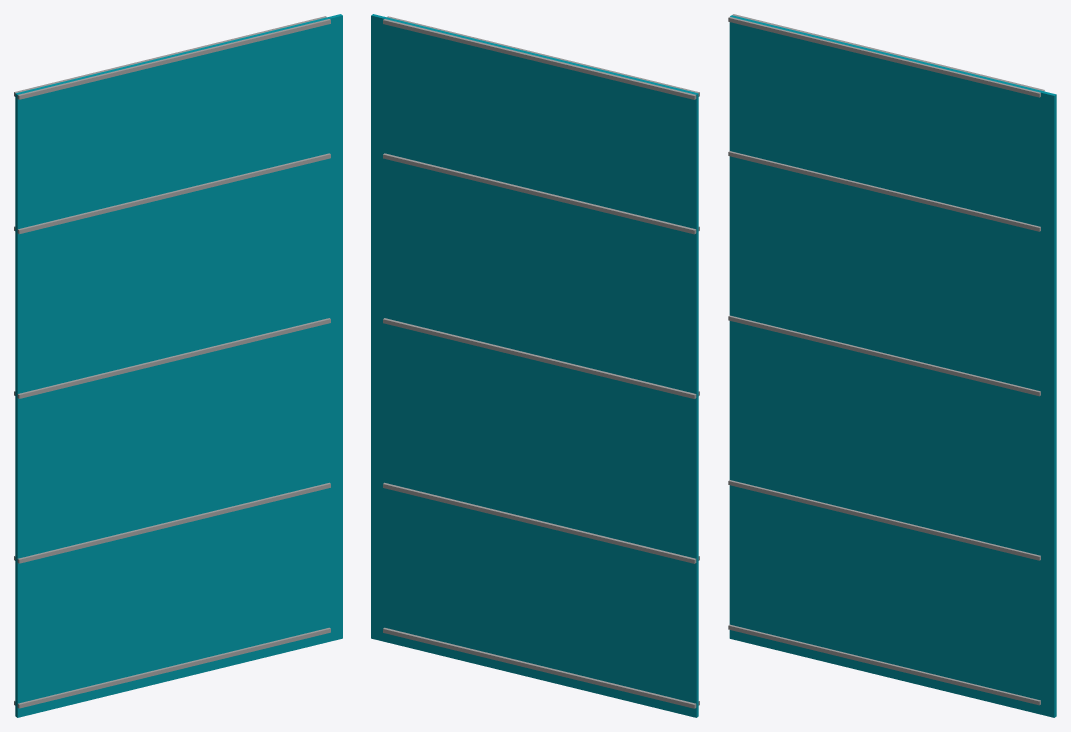
Rendered from Lobby_PhaseableGlass_2.fbx.
3 renders of one model, left to right at view 1: azimuth 30°, elevation 25°; view 2: azimuth 150°, elevation 25°; view 3: azimuth 330°, elevation 25°, orthographic.
Visible parts, largest first — view 1: Phasable_Glass1, Phase_Glass_Border2, Phase_Glass_Border3, Phase_Glass_Border5, Phase_Glass_Border6, Phase_Glass_Border4; view 2: Phasable_Glass1, Phase_Glass_Border2, Phase_Glass_Border3, Phase_Glass_Border4, Phase_Glass_Border5, Phase_Glass_Border6; view 3: Phasable_Glass1, Phase_Glass_Border2, Phase_Glass_Border3, Phase_Glass_Border5, Phase_Glass_Border6, Phase_Glass_Border4.
Part boxes in pixels (x1,y1,x2,y2): Phasable_Glass1: [15, 14, 342, 717]; Phase_Glass_Border2: [14, 16, 330, 99]; Phase_Glass_Border3: [14, 627, 330, 708]; Phase_Glass_Border5: [14, 482, 330, 563]; Phase_Glass_Border6: [14, 318, 330, 398]; Phase_Glass_Border4: [14, 153, 330, 234]; Phasable_Glass1: [371, 14, 698, 717]; Phase_Glass_Border2: [383, 16, 699, 99]; Phase_Glass_Border3: [383, 627, 699, 708]; Phase_Glass_Border4: [383, 153, 699, 234]; Phase_Glass_Border5: [383, 482, 699, 563]; Phase_Glass_Border6: [383, 318, 699, 398]; Phasable_Glass1: [729, 15, 1056, 717]; Phase_Glass_Border2: [728, 14, 1044, 97]; Phase_Glass_Border3: [728, 624, 1040, 705]; Phase_Glass_Border5: [728, 480, 1040, 560]; Phase_Glass_Border6: [728, 315, 1040, 396]; Phase_Glass_Border4: [728, 151, 1040, 231].
Bounding box in the file's own units: 503 × 921 × 13.88.
